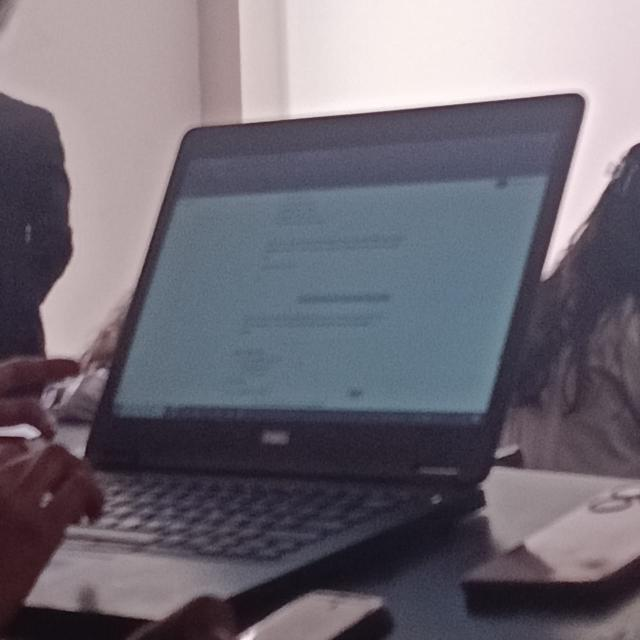laptop: (78, 85, 528, 581)
